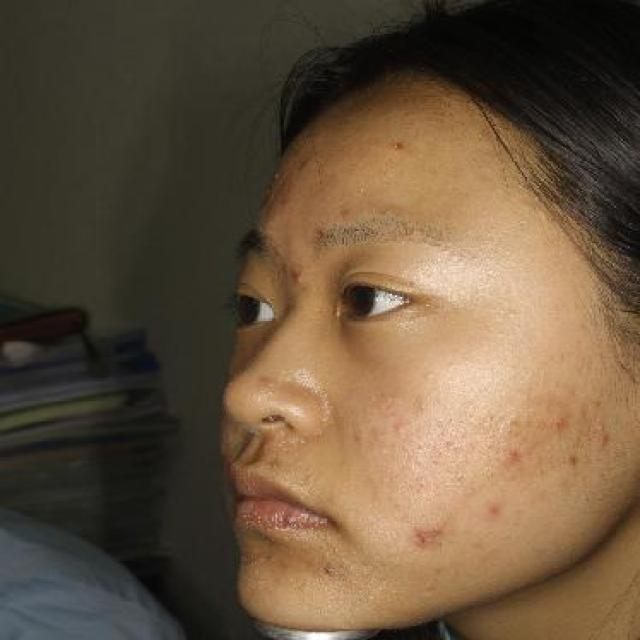papules: (292, 148, 314, 180), (286, 260, 306, 289)
pustules: (560, 446, 588, 477), (482, 502, 512, 523), (265, 458, 284, 472)
